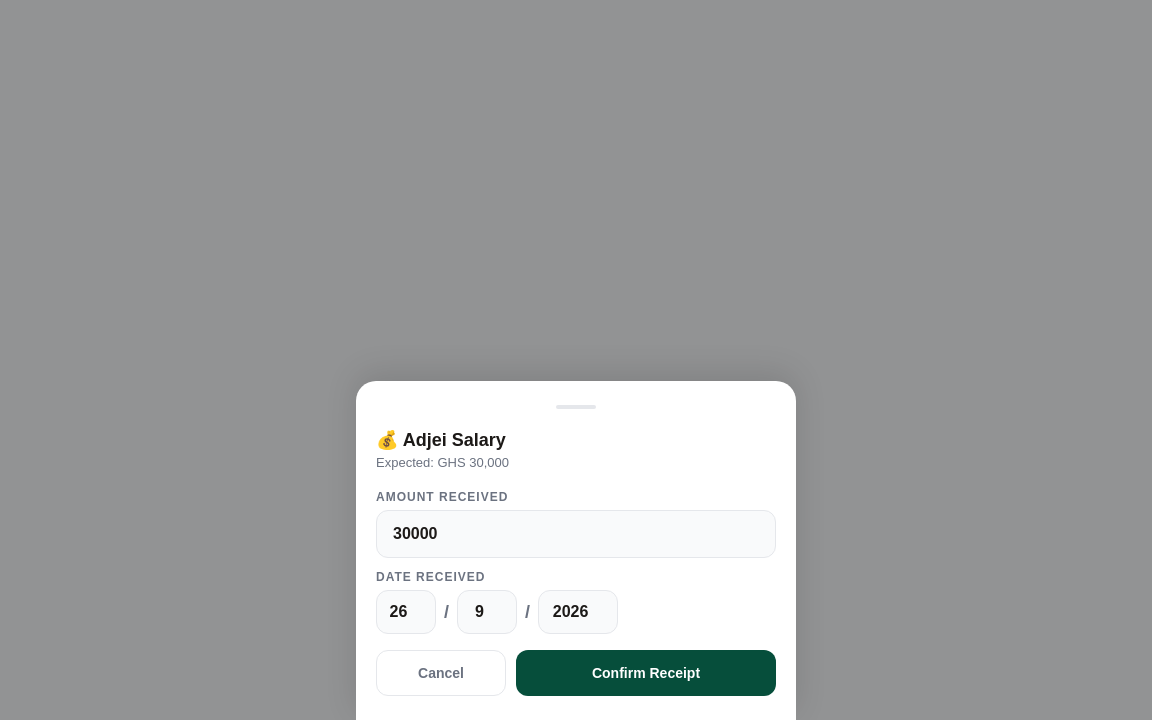
it: ConfirmSheet › shows error for year out of range on confirm
Replace the text in the number field with test id "confirm-date-year" with "2035": (578,612) [538,590,618,634]
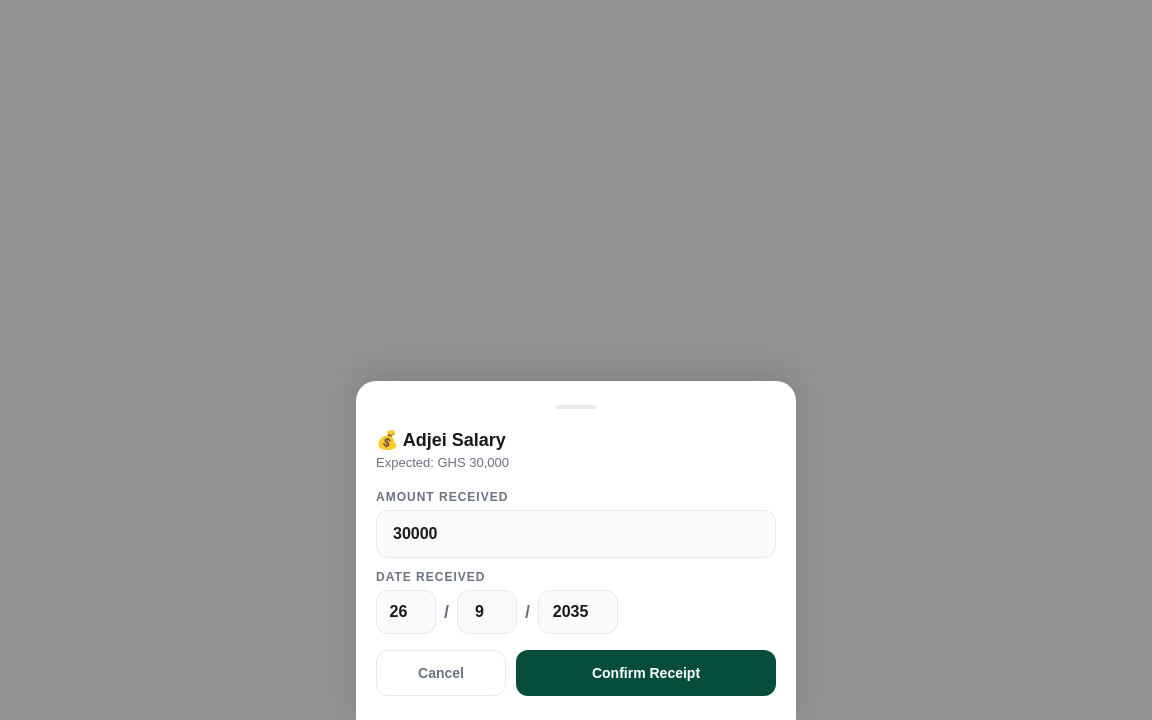
Click the button "Confirm Receipt": (646,673) [516,650,776,696]
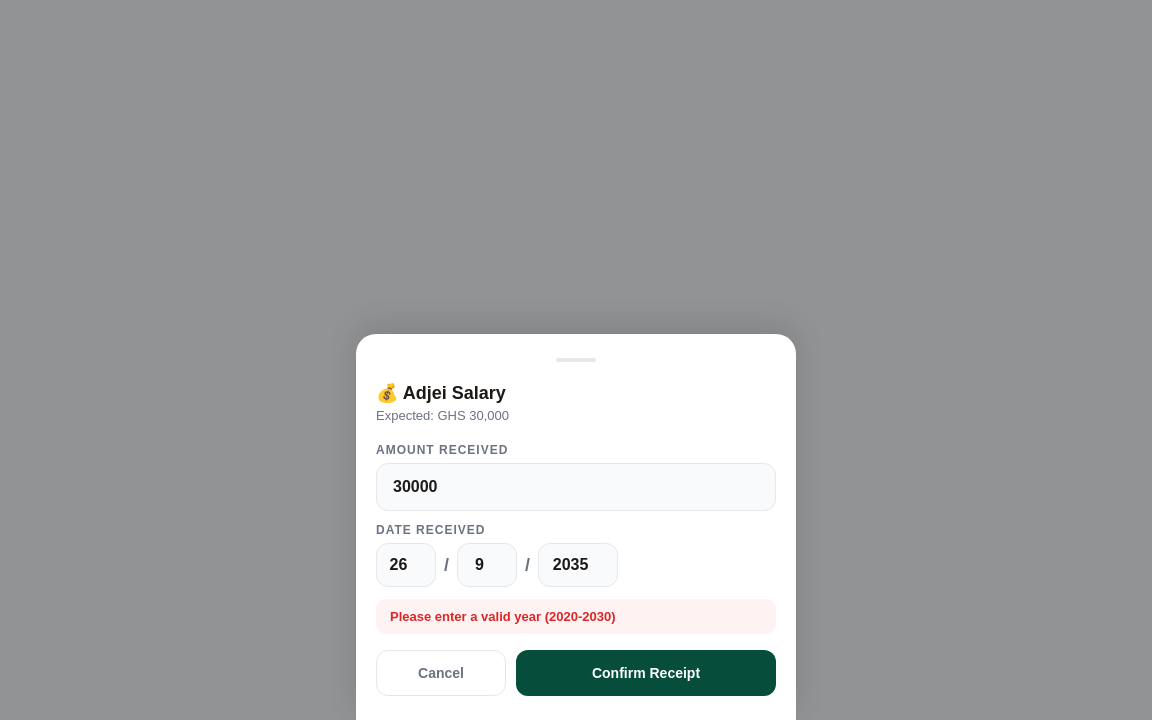
Result: the text "Please enter a valid year (2020-2030)" is shown at [390,609,616,624]
